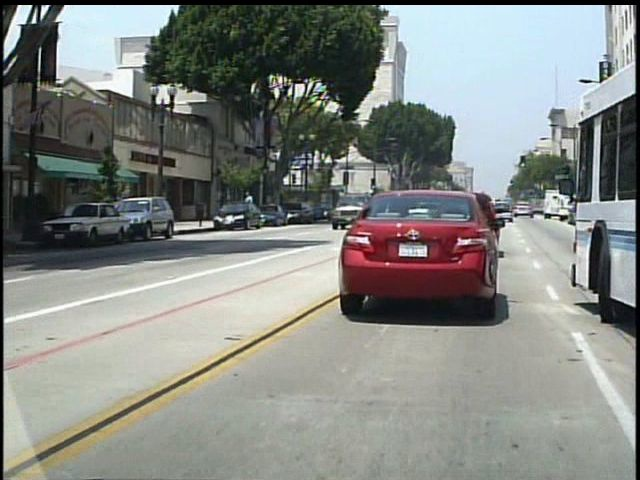person: (247, 190, 260, 224)
